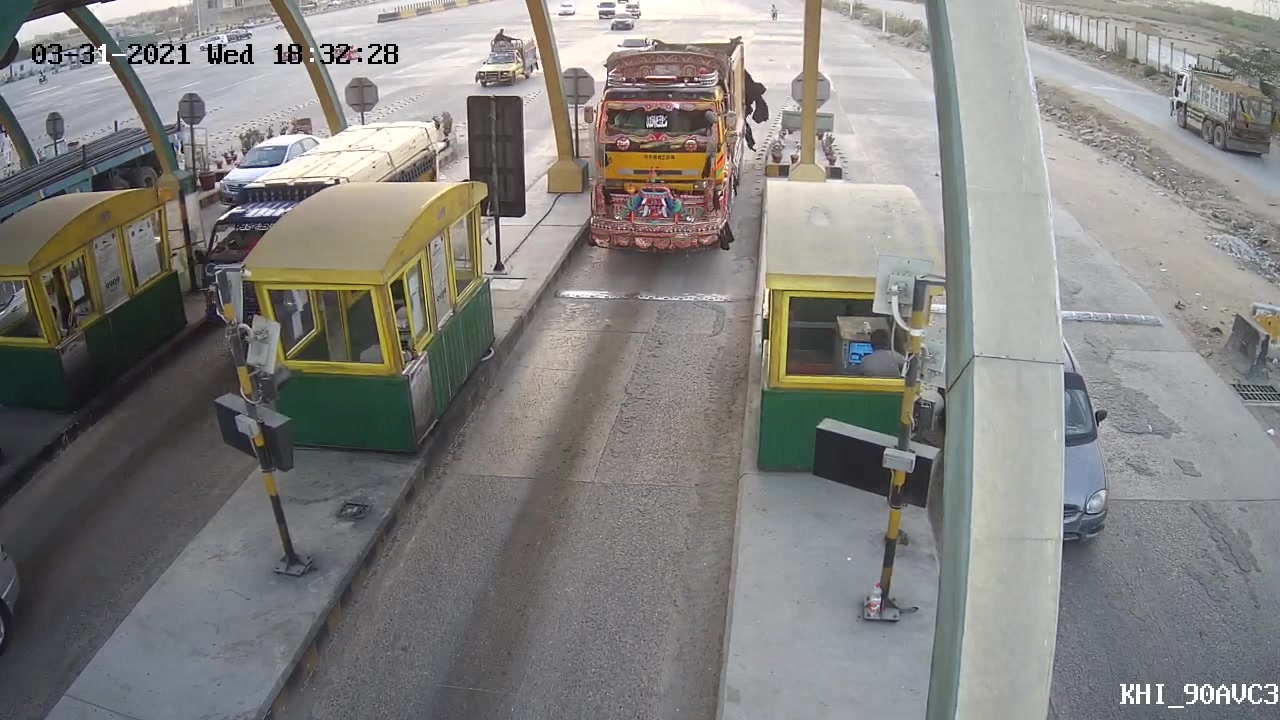F5: (572, 26, 748, 262)
